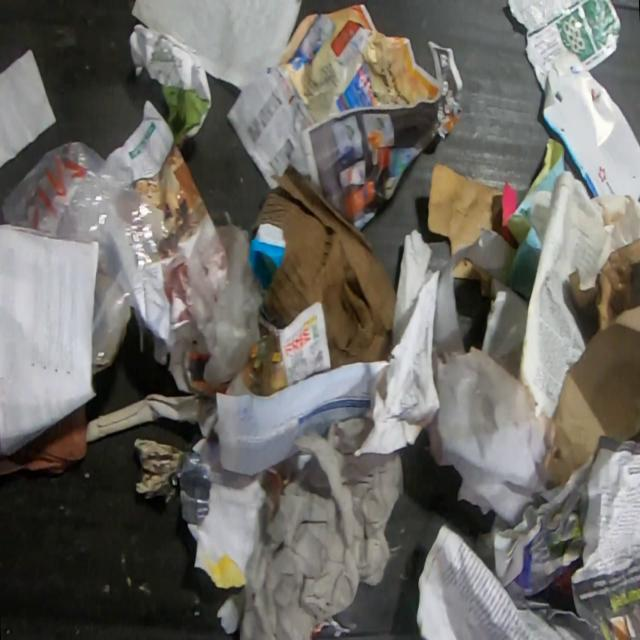cardboard: (247, 174, 397, 369), (537, 307, 640, 486), (425, 163, 517, 256), (570, 234, 640, 347), (452, 256, 490, 297)
soft_plastic: (1, 140, 170, 375), (181, 209, 265, 386), (179, 436, 257, 527)
